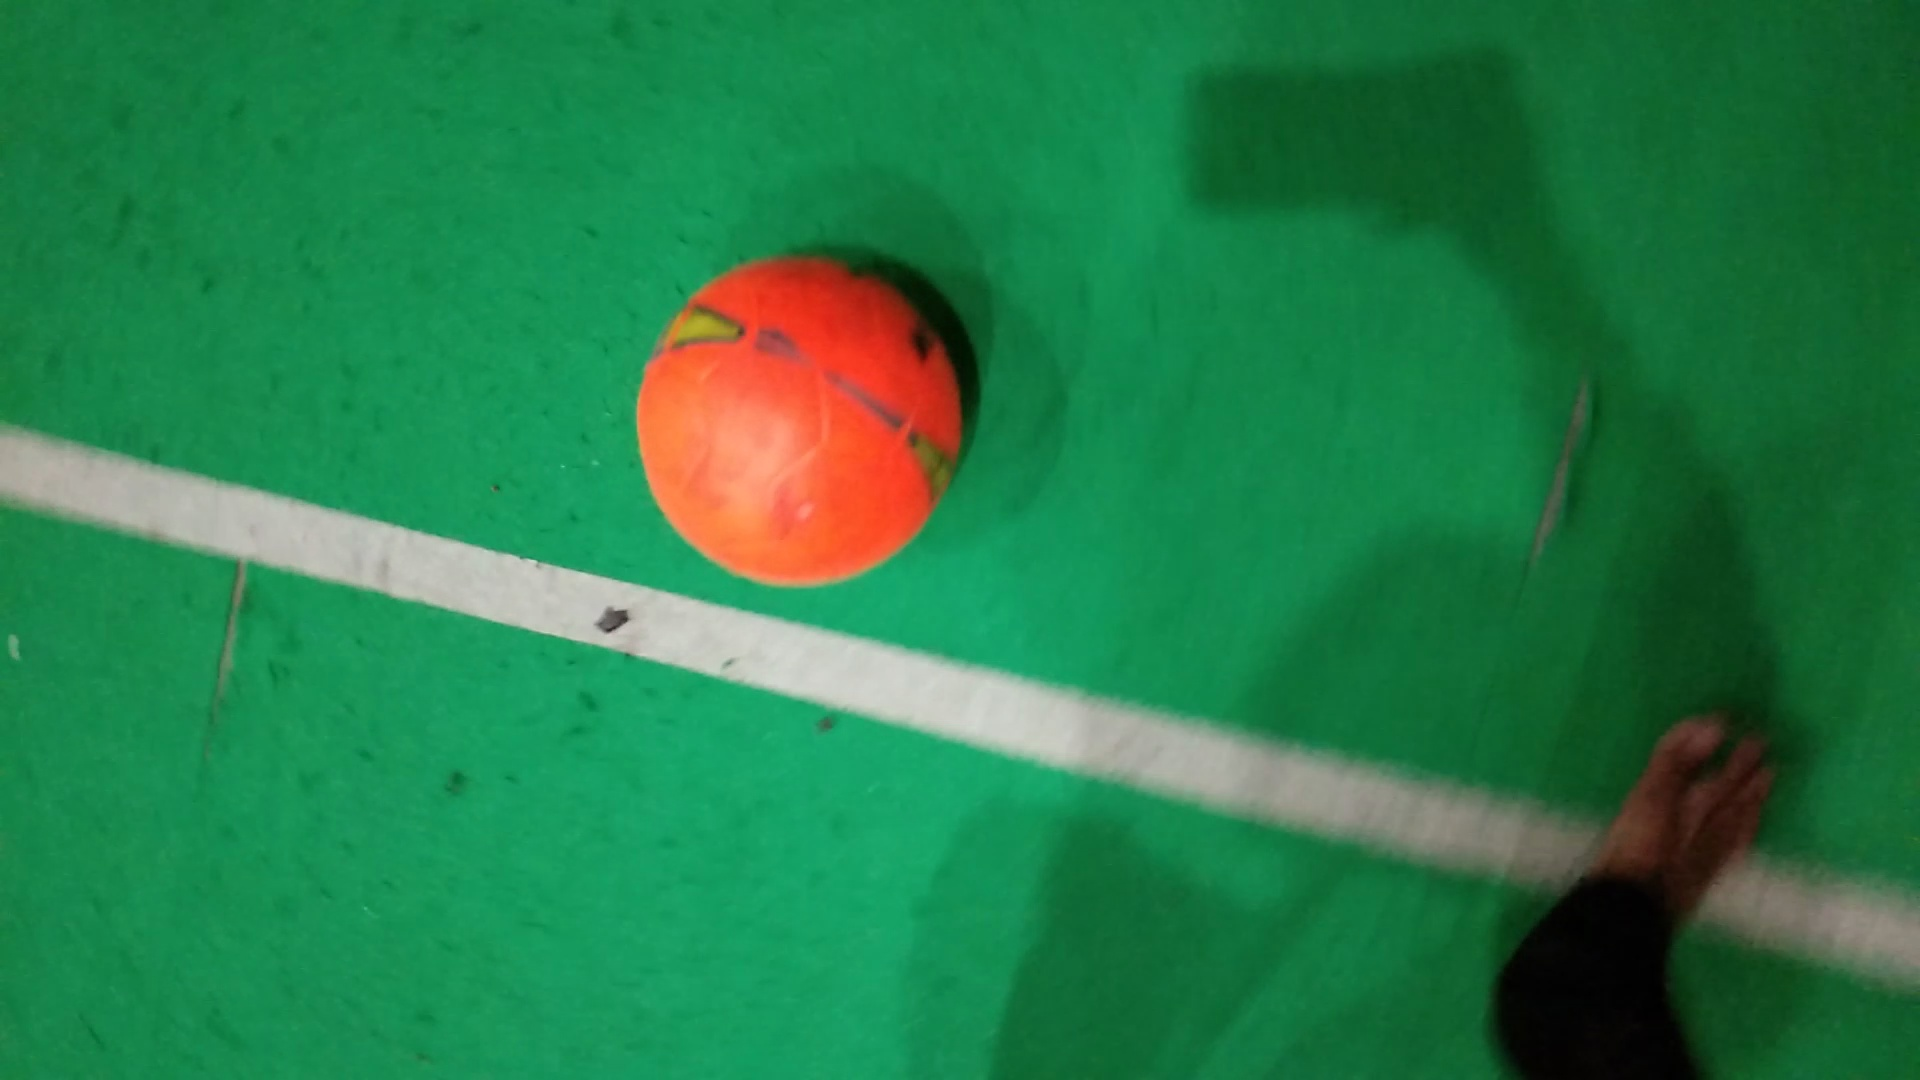bola: (632, 245, 977, 595)
